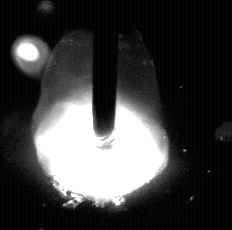arame: (93, 0, 117, 140)
poca: (34, 0, 170, 230)
